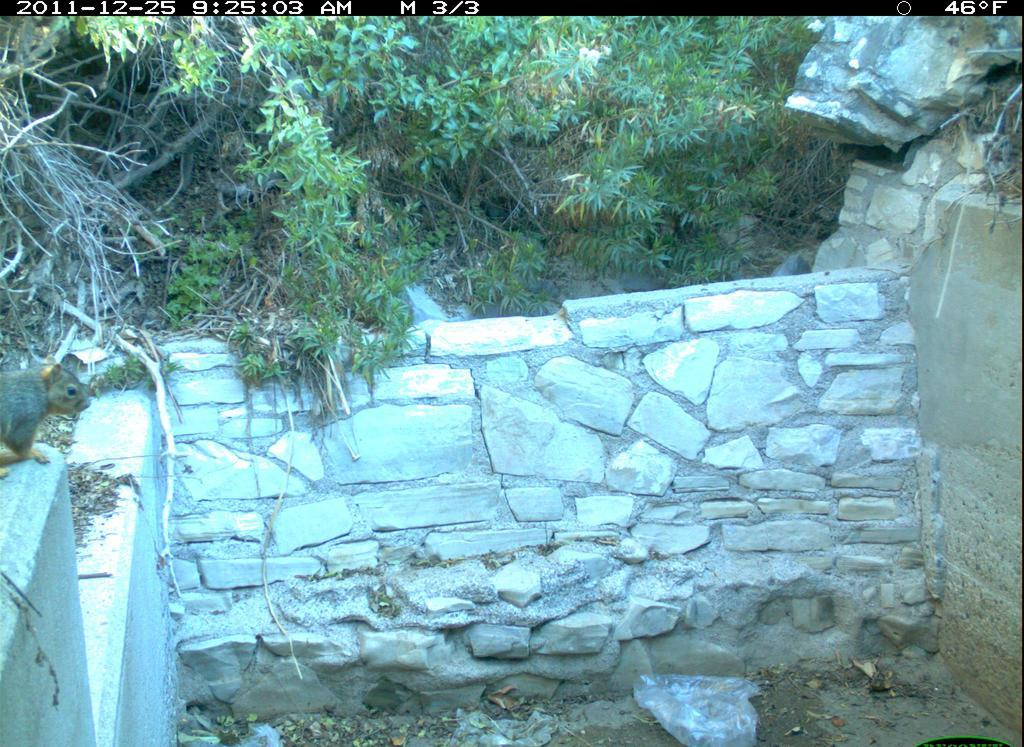squirrel: (3, 354, 104, 472)
